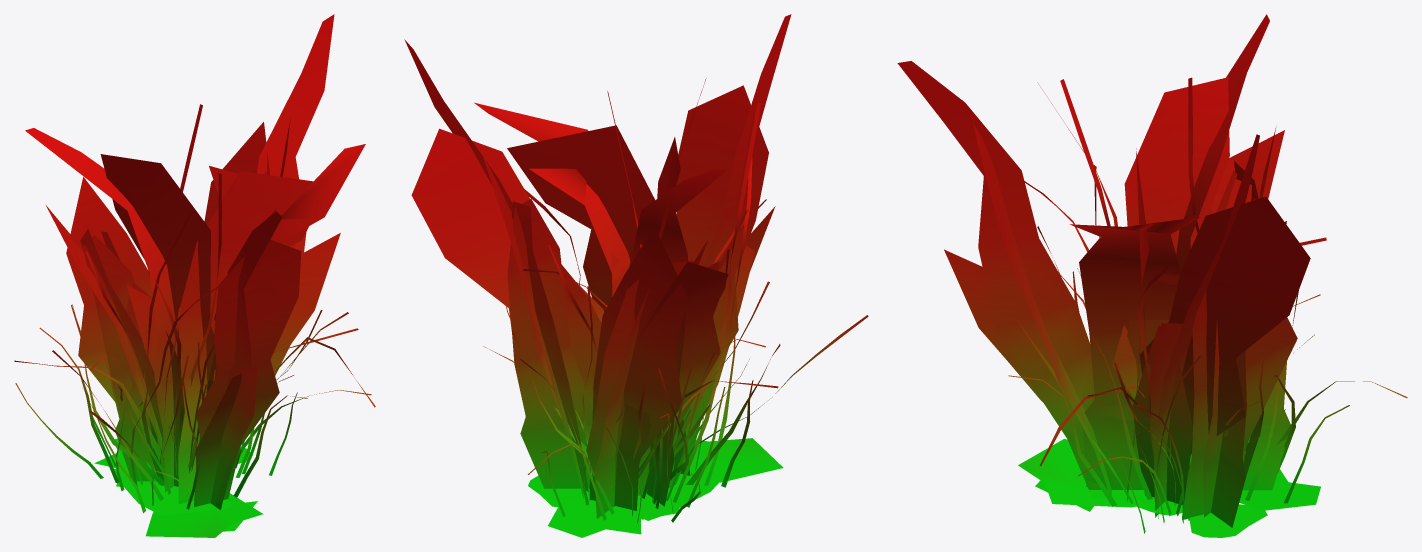
The model's file is ThatchLOD0.fbx.
The picture shows the model from 3 angles, left to right: view 1: azimuth 30°, elevation 25°; view 2: azimuth 150°, elevation 25°; view 3: azimuth 270°, elevation 25°; orthographic projection. The views are drawn at different scales.
Parts seen in each view (by area): view 1: _cada_Var3_LOD0; view 2: _cada_Var3_LOD0; view 3: _cada_Var3_LOD0.
Part boxes in pixels (<box>): _cada_Var3_LOD0: <box>14,14,375,537</box>; _cada_Var3_LOD0: <box>404,14,868,537</box>; _cada_Var3_LOD0: <box>897,14,1407,537</box>.
Bounding box in the file's own units: 32.78 × 37.52 × 36.82.
